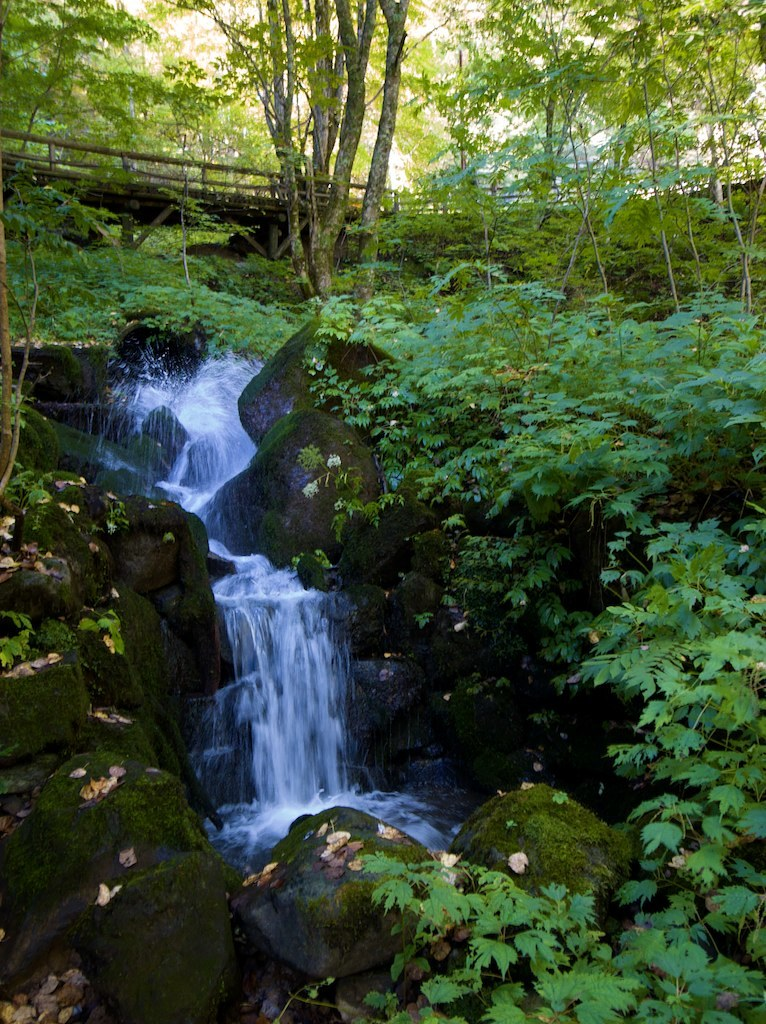Tree: (0, 0, 766, 308)
